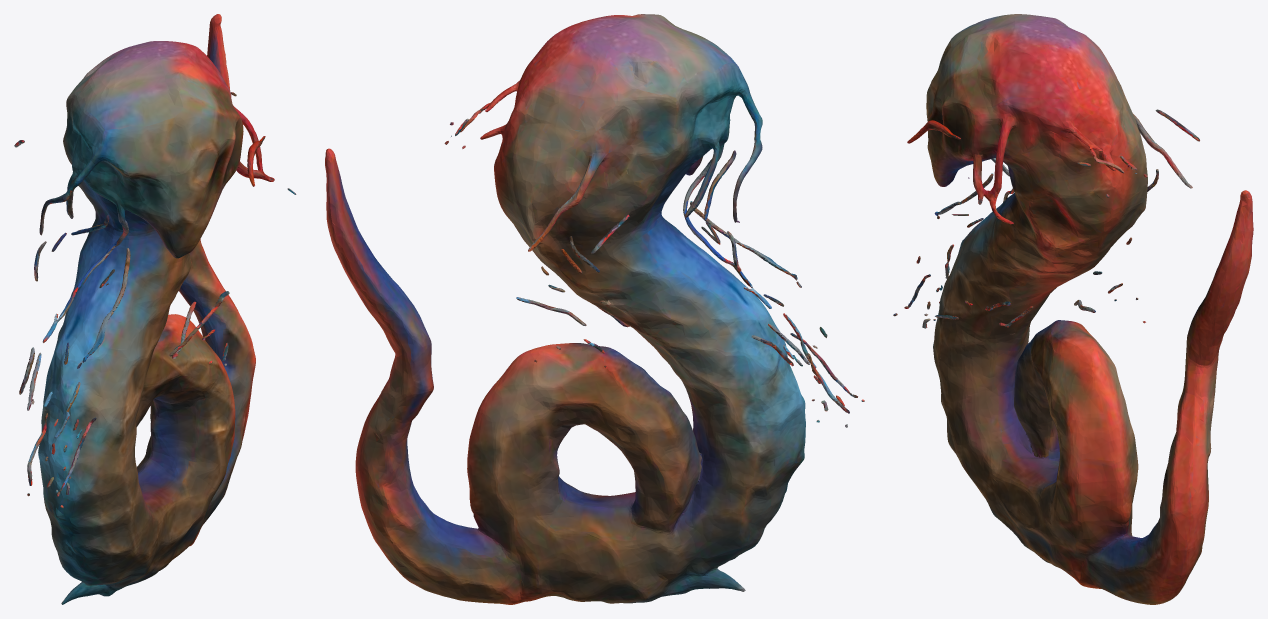
File: FLAME-LURKER.glb
3 views of the same model, side by side, from view 1: azimuth 30°, elevation 25°; view 2: azimuth 150°, elevation 25°; view 3: azimuth 270°, elevation 25° (orthographic). The views are drawn at different scales.
Visible parts, largest first — view 1: FLAME-LURKER; view 2: FLAME-LURKER; view 3: FLAME-LURKER.
Part boxes in pixels (x1,y1,x2,y2): FLAME-LURKER: [14, 14, 296, 604]; FLAME-LURKER: [325, 14, 864, 604]; FLAME-LURKER: [893, 14, 1253, 604].
Bounding box in the file's own units: 1.35 × 1.99 × 1.21.
Materials: 1 (1 with a texture image).
